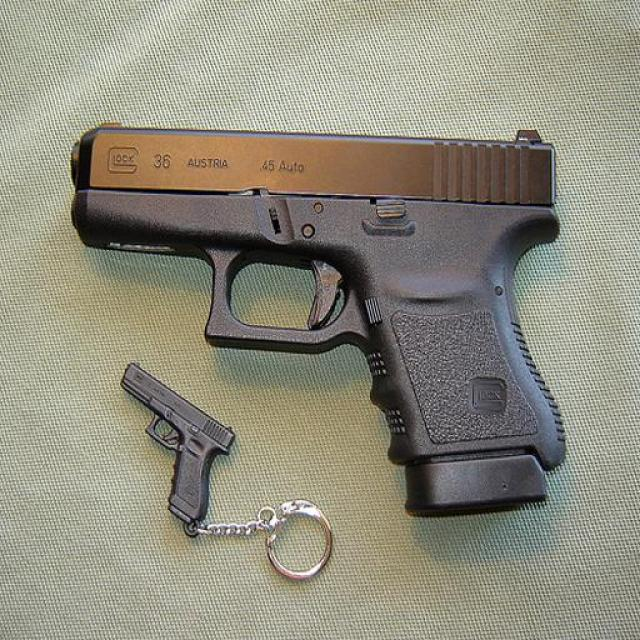pistol: (66, 116, 570, 521), (119, 360, 233, 536)
